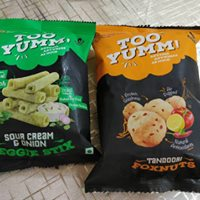plastic: (90, 27, 198, 191), (1, 19, 95, 159)
tooyumm: (105, 31, 193, 61), (2, 27, 82, 55)
wrapper: (97, 30, 199, 189), (3, 21, 88, 155)
